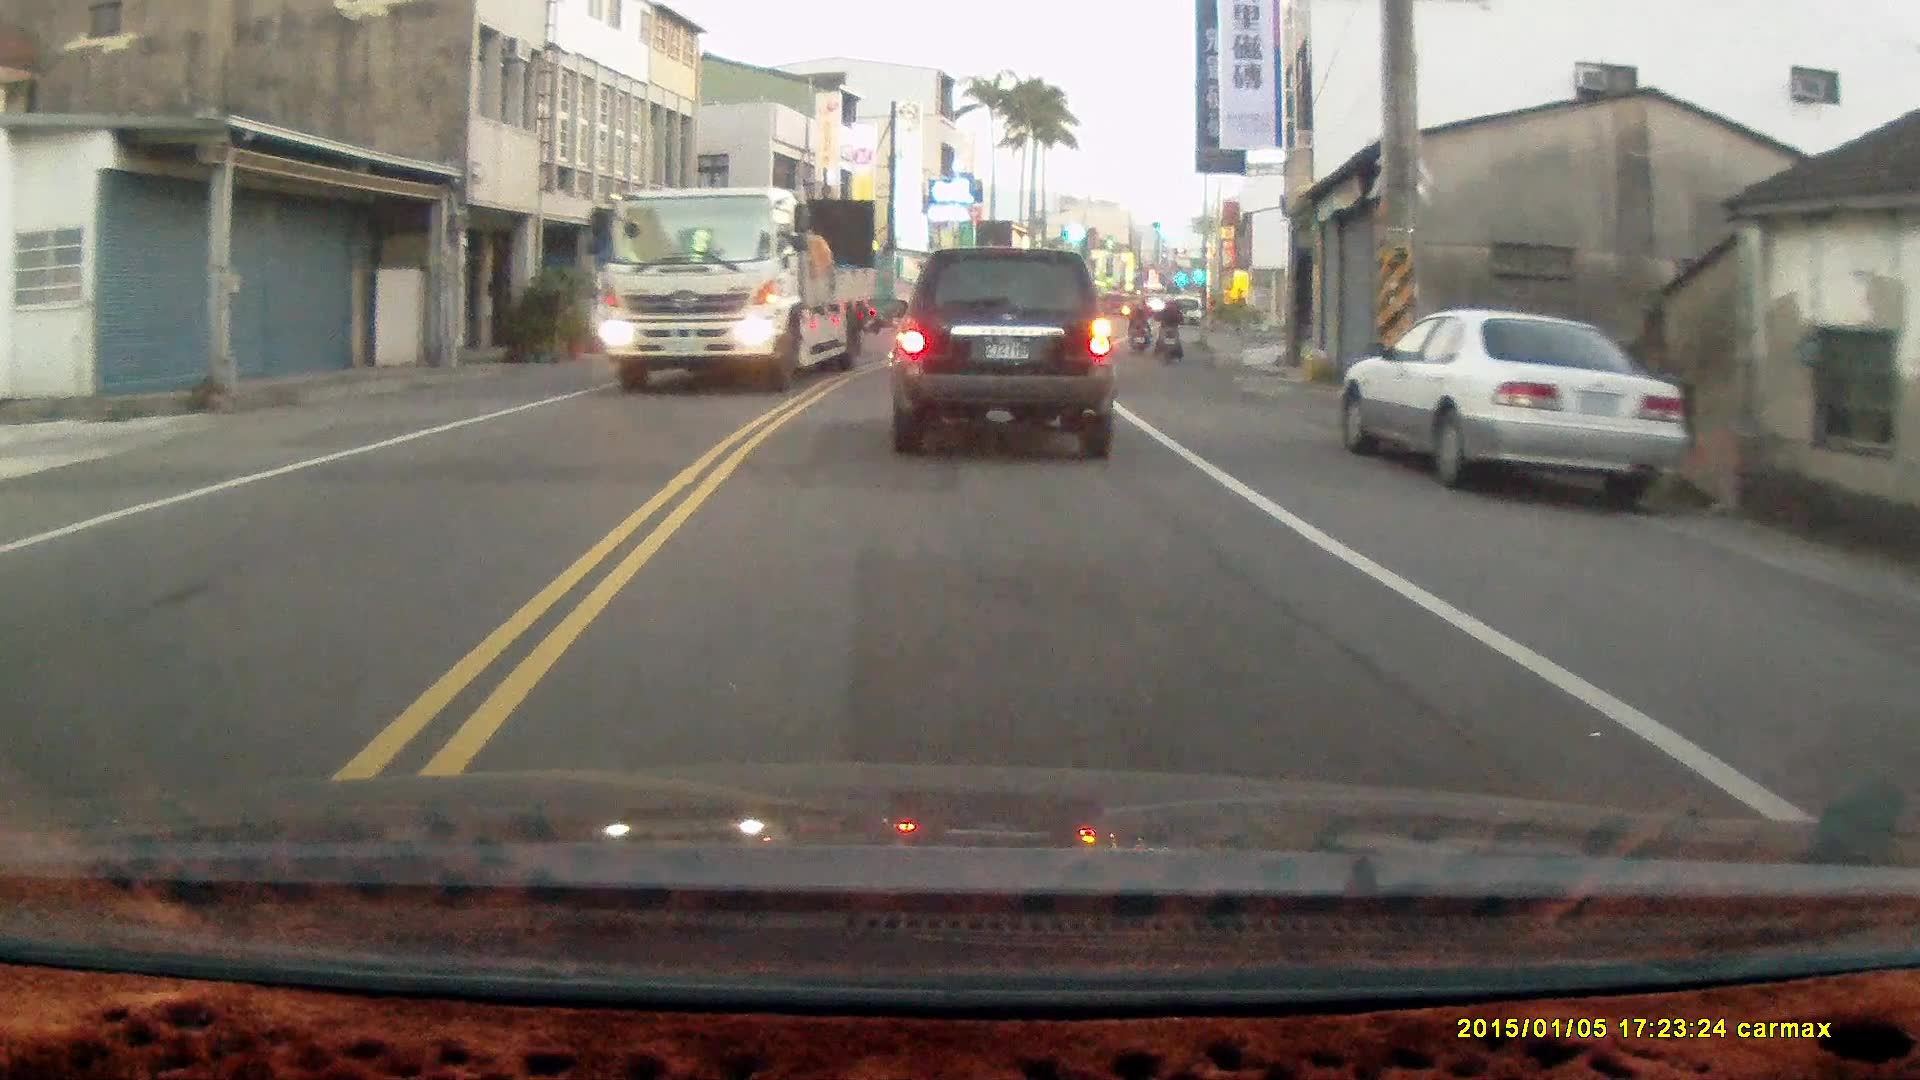rider: (1151, 290, 1182, 367), (1124, 293, 1150, 357)
vehicle: (1341, 311, 1686, 507), (605, 182, 881, 391), (892, 245, 1119, 456)
